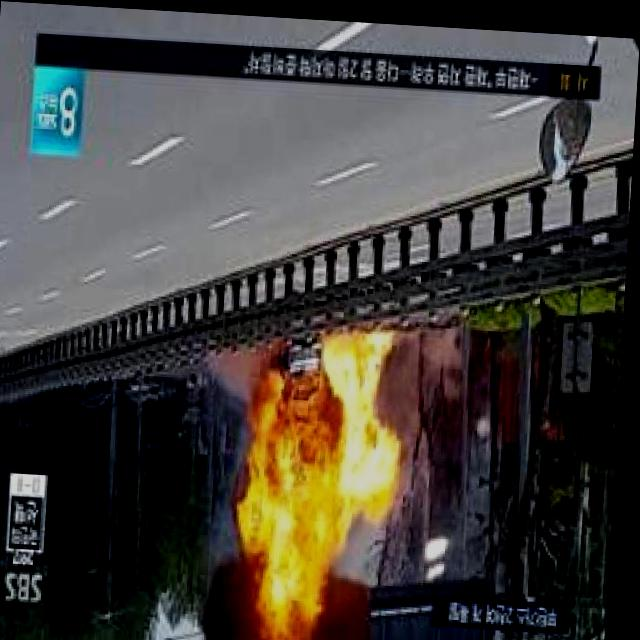helmet: (250, 323, 407, 533), (256, 537, 341, 632)
